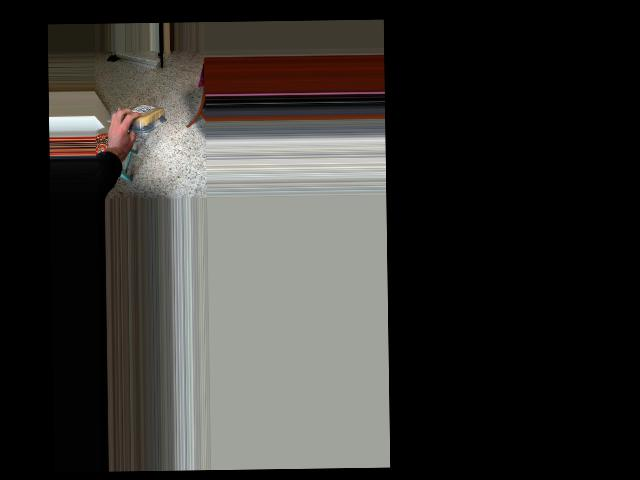cheese: (114, 101, 168, 134)
